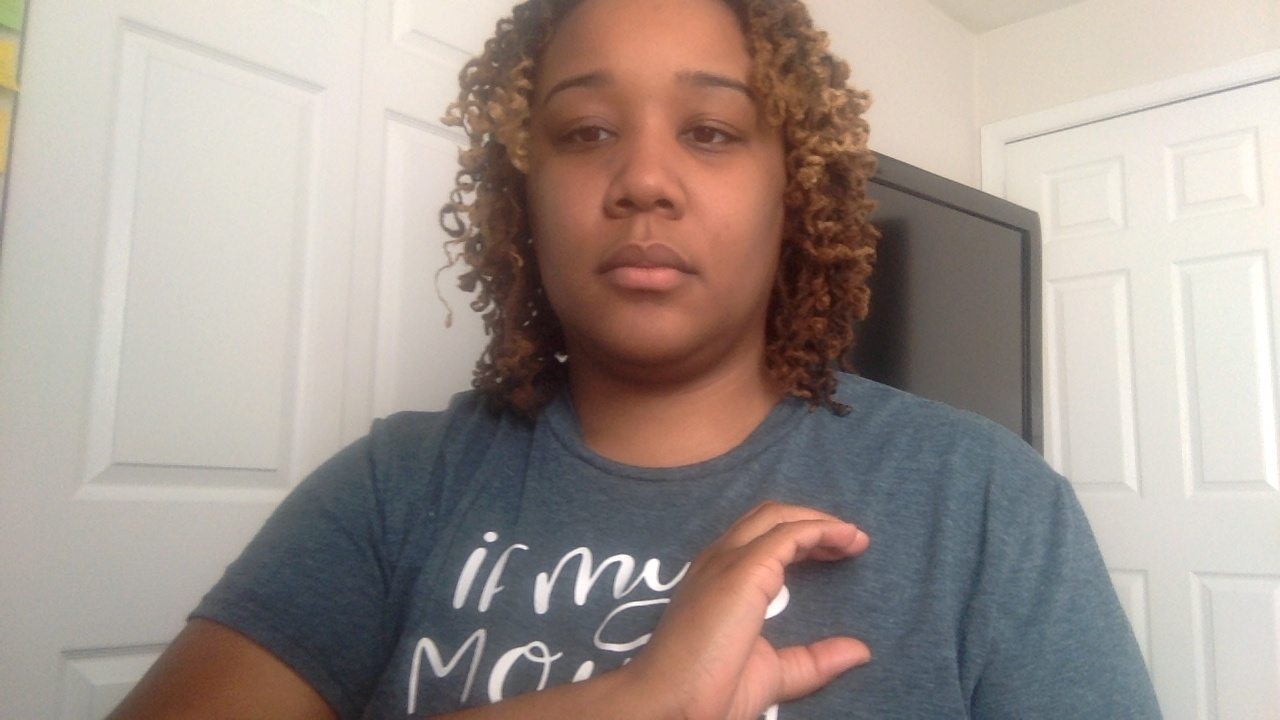police: (133, 1, 1160, 720)
